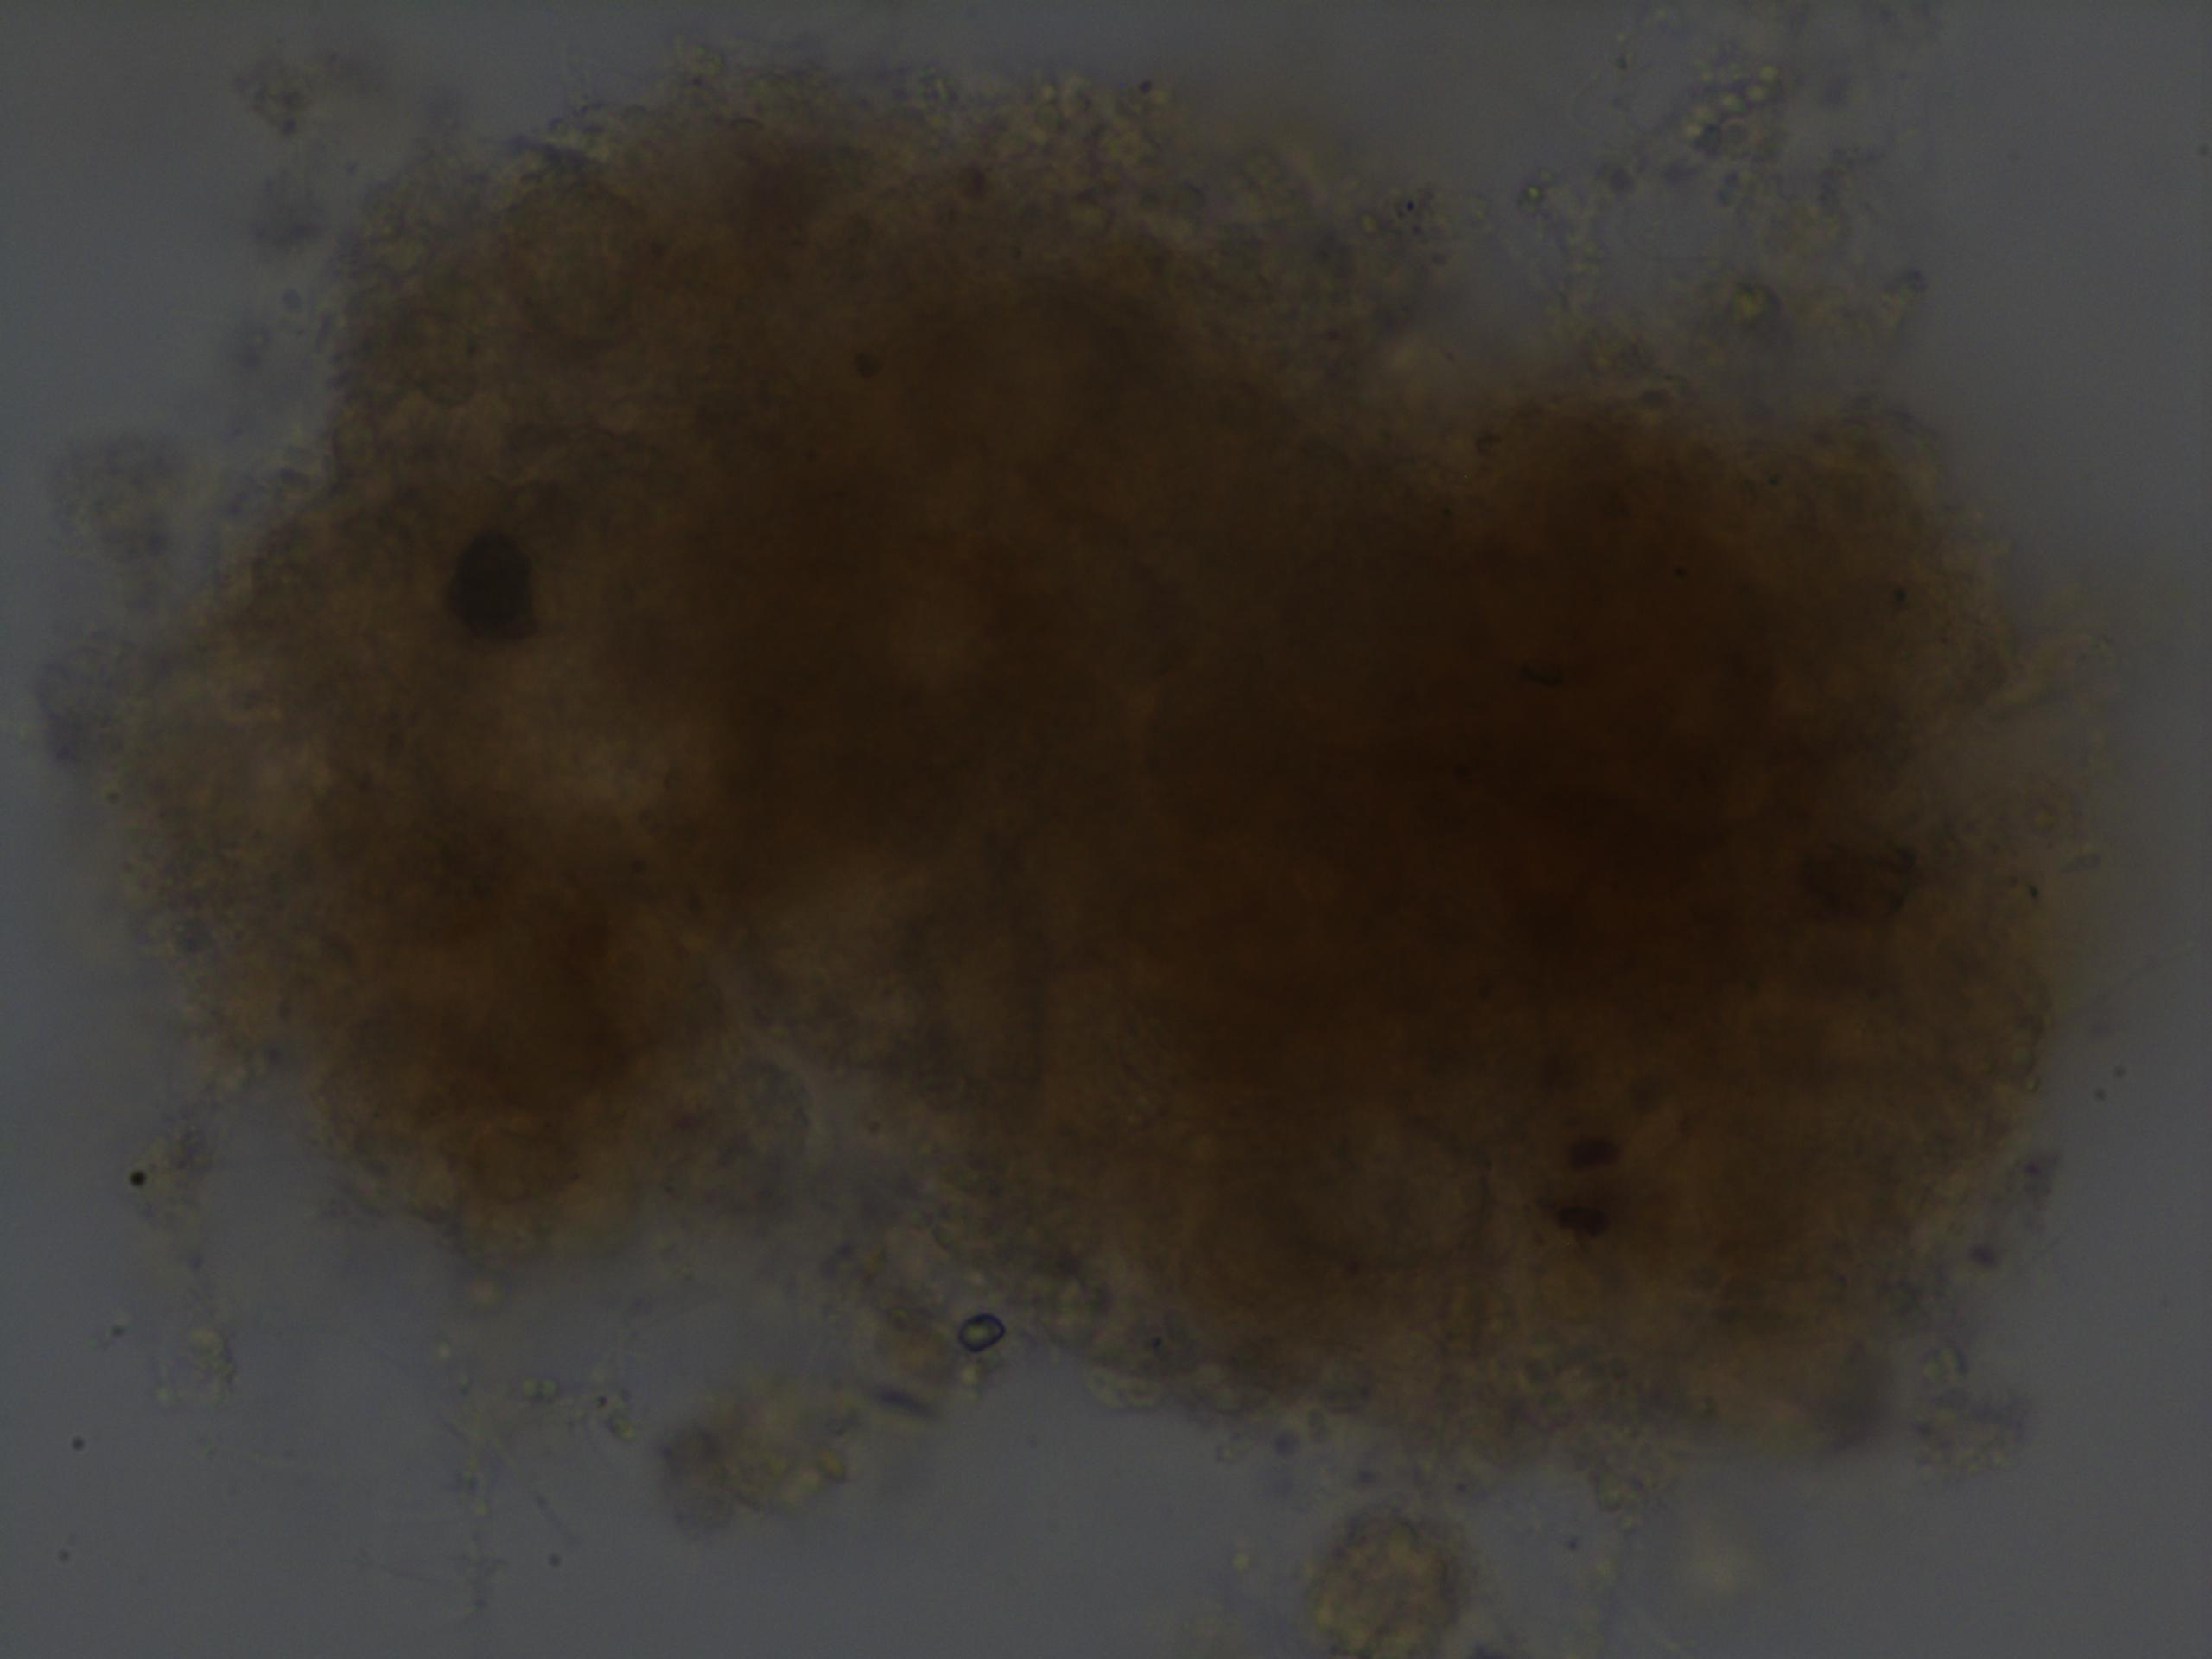spherical_floc: (85, 56, 2141, 1518)
